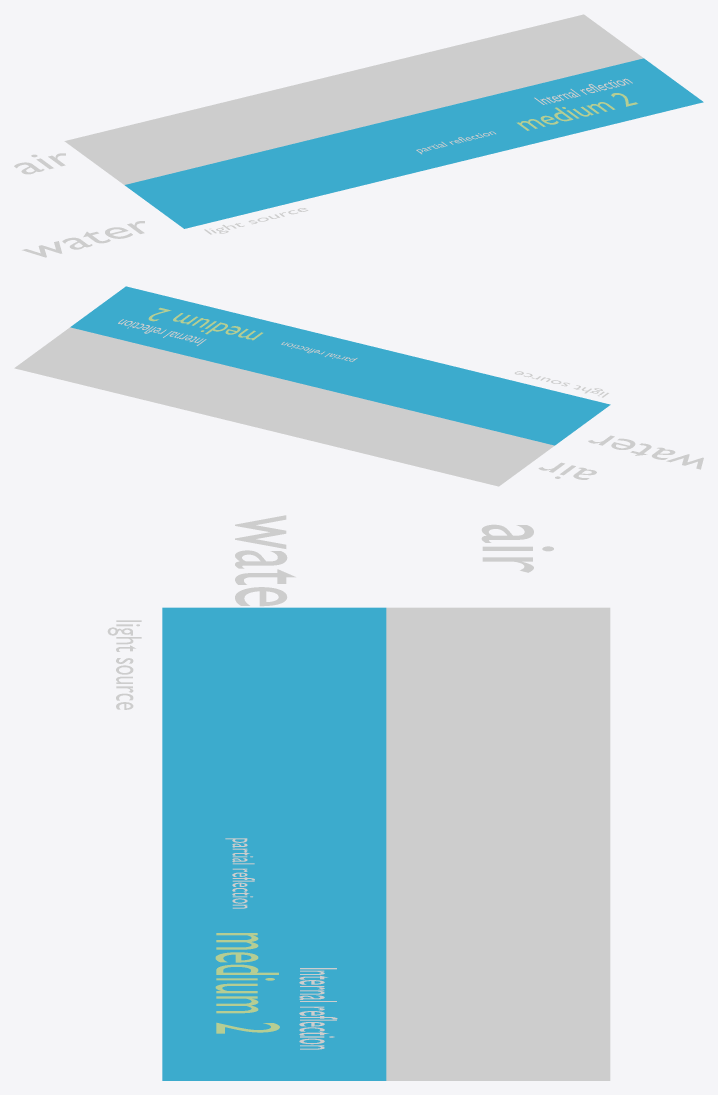
Rendered from Total internal refletion_Varun Castello.gltf.
3 views of the same model, one above another, from view 1: azimuth 30°, elevation 25°; view 2: azimuth 150°, elevation 25°; view 3: azimuth 270°, elevation 25° (orthographic). The views are drawn at different scales.
Visible parts, largest first — view 1: Grid.001, Grid, Text.001, Text.004, Text.003, Text.006; view 2: Grid.001, Grid, Text.001, Text.004, Text.003, Text.006, Text; view 3: Grid.001, Grid, Text.001, Text.004, Text.003, Text.006, Text, Text.002.
Part boxes in pixels (x1,y1,x2,y2): Grid.001: (64, 14, 643, 184); Grid: (124, 58, 703, 228); Text.001: (22, 221, 144, 257); Text.004: (516, 93, 637, 130); Text.003: (432, 29, 578, 71); Text.006: (534, 78, 632, 104); Grid.001: (14, 327, 554, 486); Grid: (70, 286, 610, 445); Text.001: (588, 435, 703, 469); Text.004: (148, 307, 262, 340); Text.003: (50, 359, 190, 395); Text.006: (118, 319, 206, 345); Text: (538, 462, 596, 479); Grid.001: (386, 607, 610, 1080); Grid: (162, 607, 386, 1080); Text.001: (235, 515, 295, 606); Text.004: (215, 933, 279, 1033); Text.003: (527, 927, 566, 1056); Text.006: (299, 968, 337, 1049); Text: (481, 524, 553, 572); Text.002: (107, 620, 141, 709).
Bounding box in the file's own units: 12.49 × 0.4137 × 4.49.
